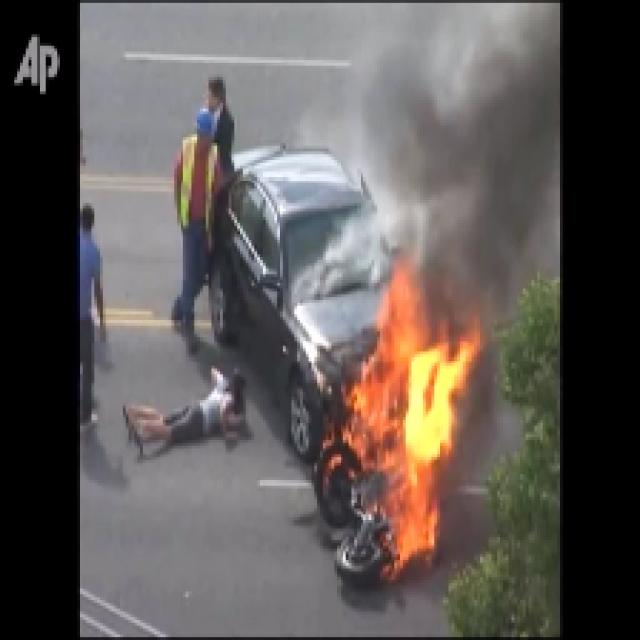fire: (347, 328, 453, 564)
smoke: (398, 33, 539, 319)
